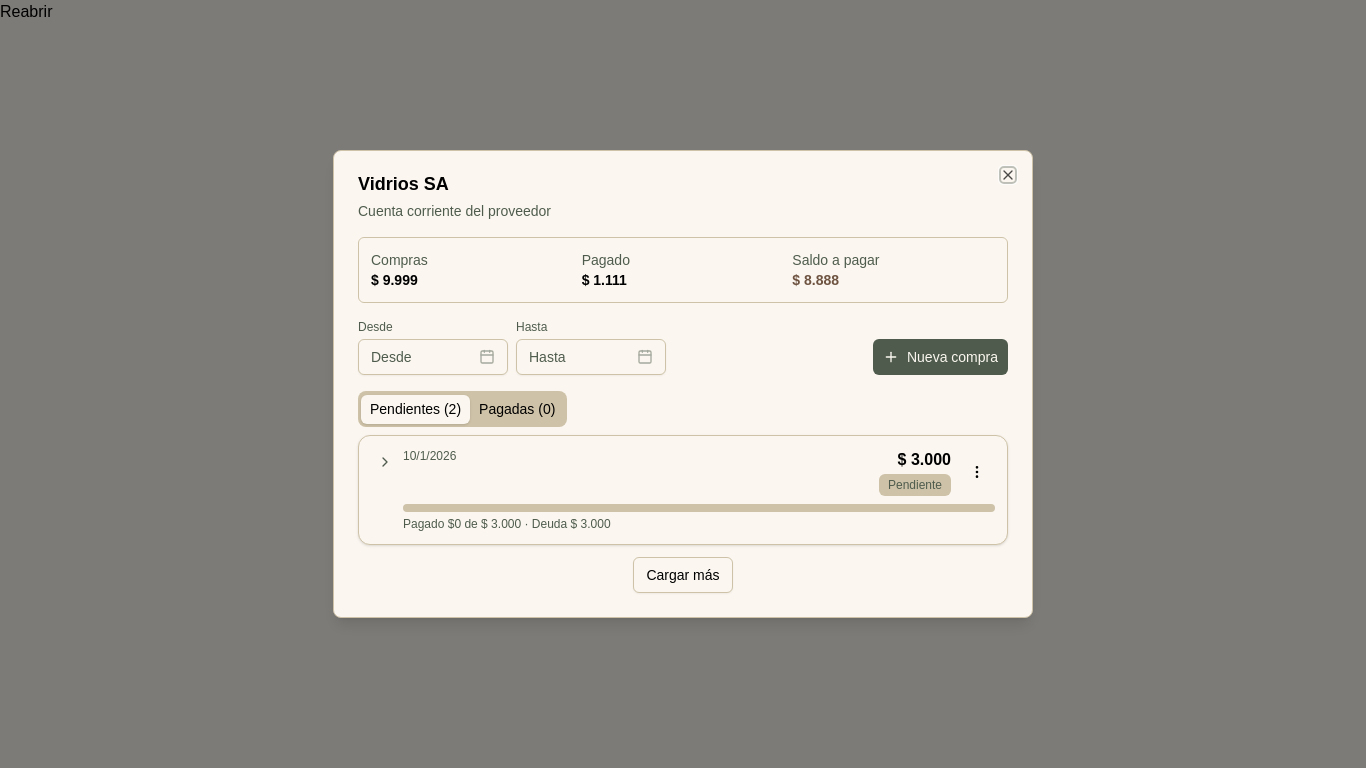
SupplierDetailsDialog › tabs and pagination › "Cargar más" appends the next page and disappears once totalCount is reached
Click the button "Cargar más" at [683, 575], box [633,557,732,593]
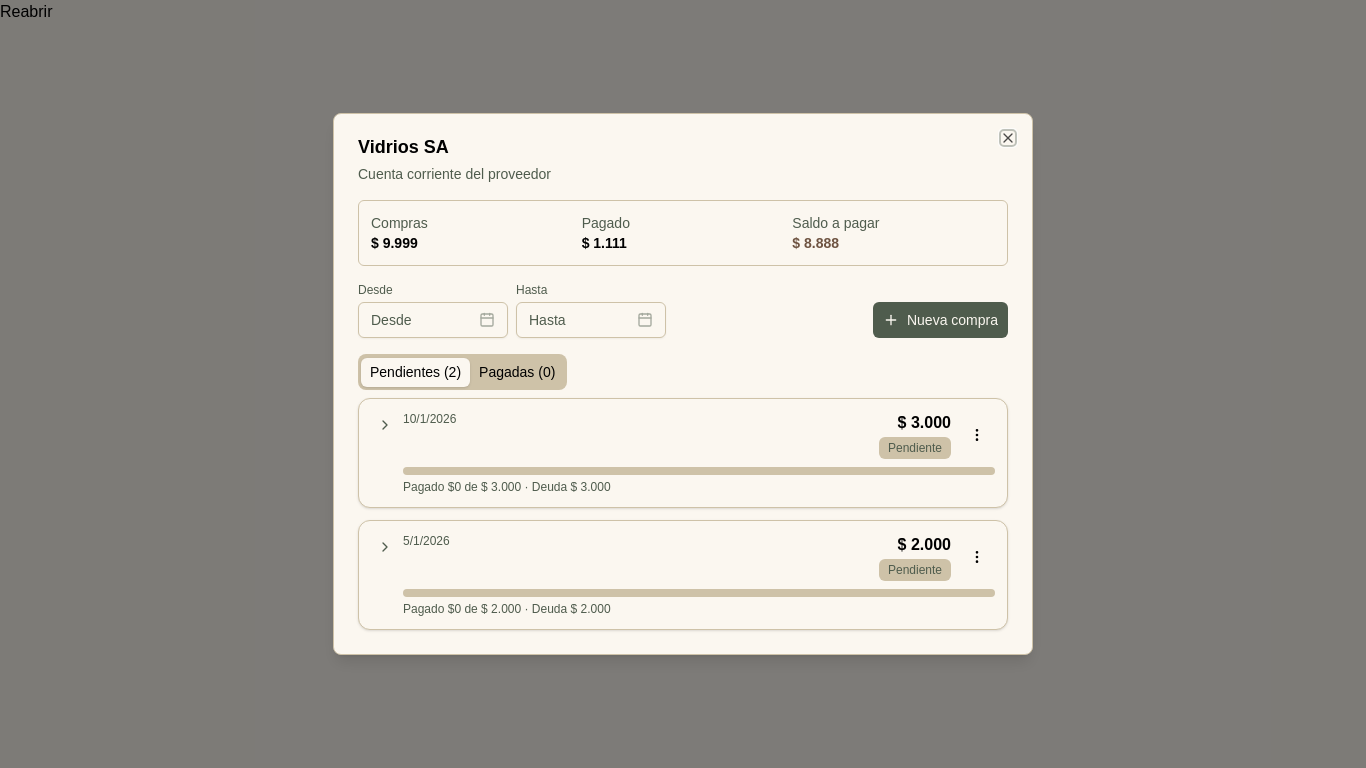
Expected: the button "Cargar más" is gone
